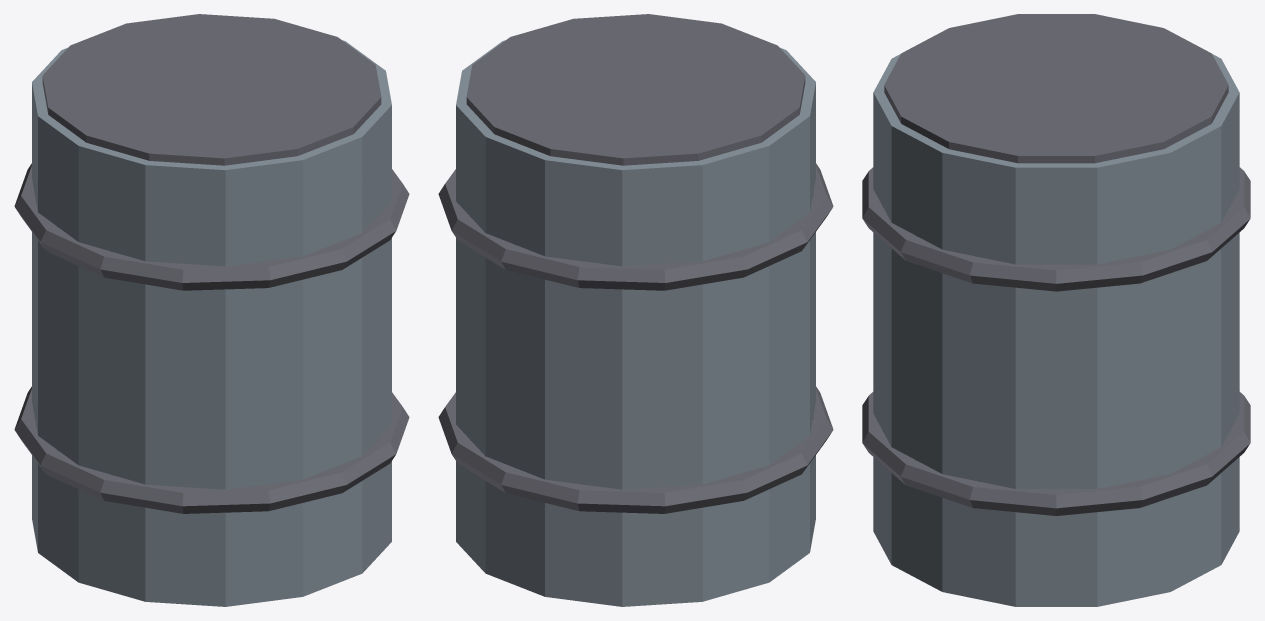
The model's file is prop_barrel.glb.
3 renders of one model, left to right at view 1: azimuth 30°, elevation 25°; view 2: azimuth 150°, elevation 25°; view 3: azimuth 270°, elevation 25°, orthographic.
Visible parts, largest first — view 1: PropBarrel; view 2: PropBarrel; view 3: PropBarrel.
Boxes of the visible parts, x1,y1,x2,y2 form: PropBarrel: (14, 14, 409, 606); PropBarrel: (438, 14, 833, 606); PropBarrel: (862, 14, 1250, 606).
Size of the model in its own units: 0.74 by 0.915 by 0.7214.
